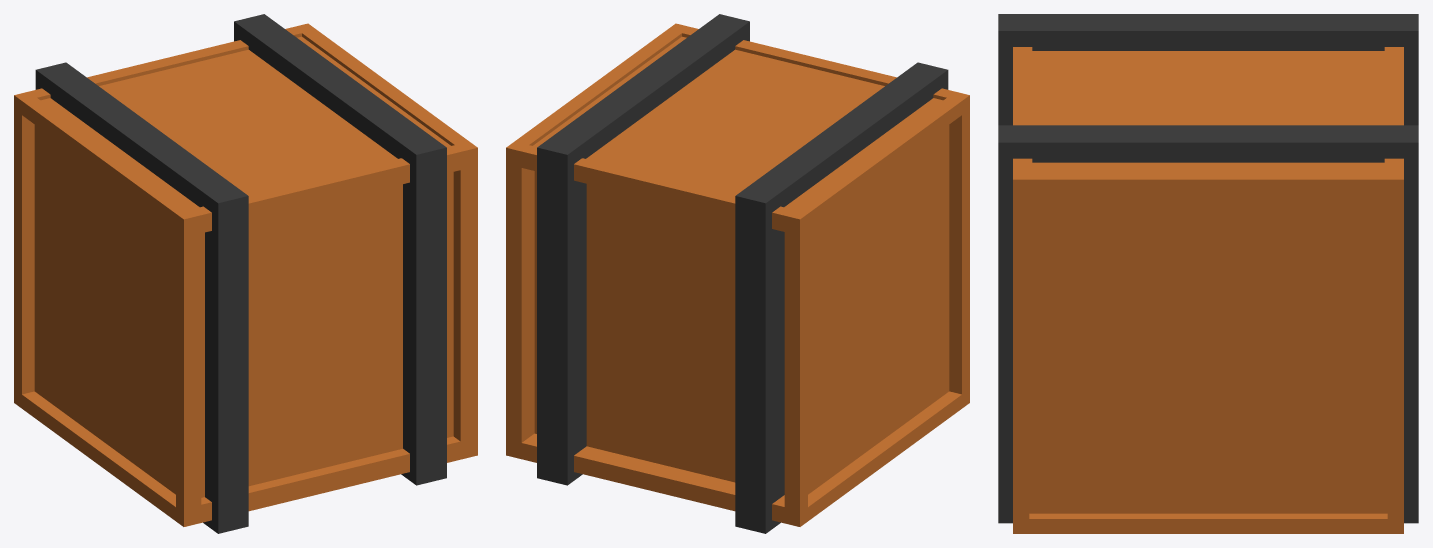
3 views of the same model, side by side, from view 1: azimuth 30°, elevation 25°; view 2: azimuth 150°, elevation 25°; view 3: azimuth 270°, elevation 25° (orthographic). The views are drawn at different scales.
Parts seen in each view (by area): view 1: Cylinder; view 2: Cylinder; view 3: Cylinder.
Part boxes in pixels (box(x1,y1,x2,y2)): Cylinder: box(14, 14, 477, 533); Cylinder: box(506, 14, 969, 533); Cylinder: box(998, 14, 1418, 533).
Size of the model in its own units: 200 by 215 by 215.
